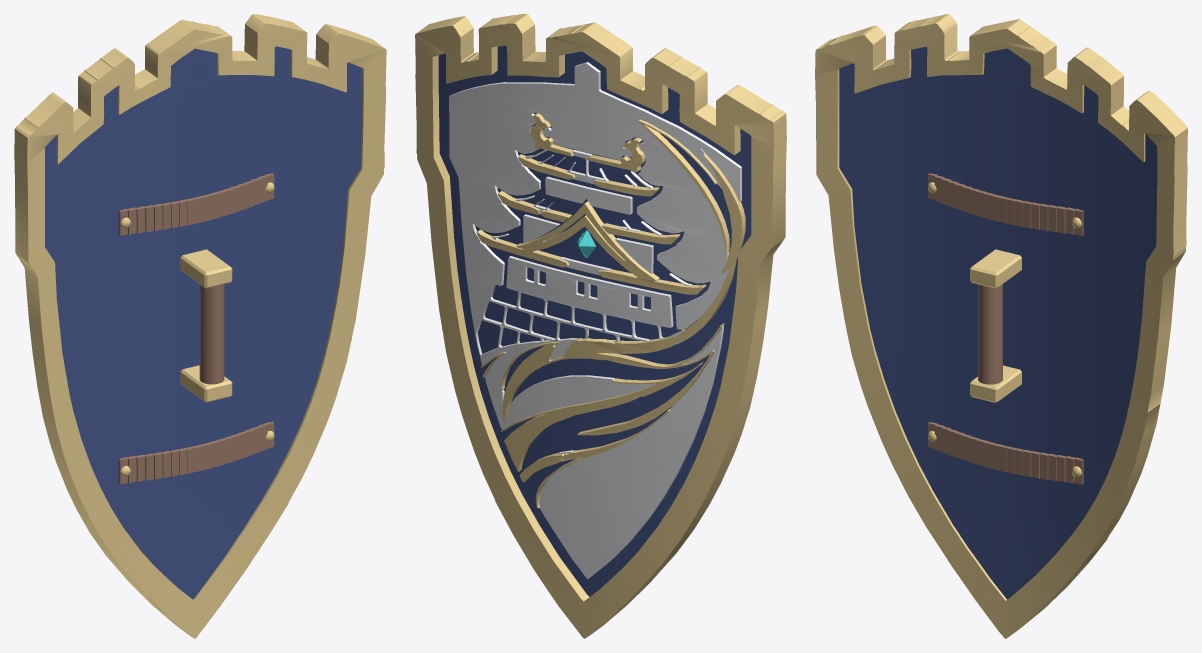
Rendered from weapon_shield.glb.
The picture shows the model from 3 angles, left to right: view 1: azimuth 30°, elevation 25°; view 2: azimuth 150°, elevation 25°; view 3: azimuth 330°, elevation 25°; orthographic projection.
Parts seen in each view (by area): view 1: Shield_Base, Shield_Rim, Shield_Strap, Shield_Grip, Shield_Bracket; view 2: Shield_Face, Shield_Rim, Shield_Base, Shield_Emblem; view 3: Shield_Base, Shield_Rim, Shield_Strap, Shield_Bracket, Shield_Grip.
Boxes of the visible parts, x1,y1,x2,y2 form: Shield_Base: [45, 46, 362, 599]; Shield_Rim: [14, 14, 386, 638]; Shield_Strap: [118, 173, 274, 484]; Shield_Grip: [199, 284, 224, 384]; Shield_Bracket: [180, 249, 232, 402]; Shield_Face: [449, 62, 741, 579]; Shield_Rim: [415, 14, 786, 638]; Shield_Base: [438, 45, 751, 596]; Shield_Emblem: [476, 113, 745, 508]; Shield_Base: [839, 46, 1157, 599]; Shield_Rim: [815, 14, 1187, 638]; Shield_Strap: [928, 173, 1083, 484]; Shield_Bracket: [970, 249, 1021, 402]; Shield_Grip: [978, 284, 1002, 384].
Size of the model in its own units: 0.5605 by 0.9069 by 0.106.
